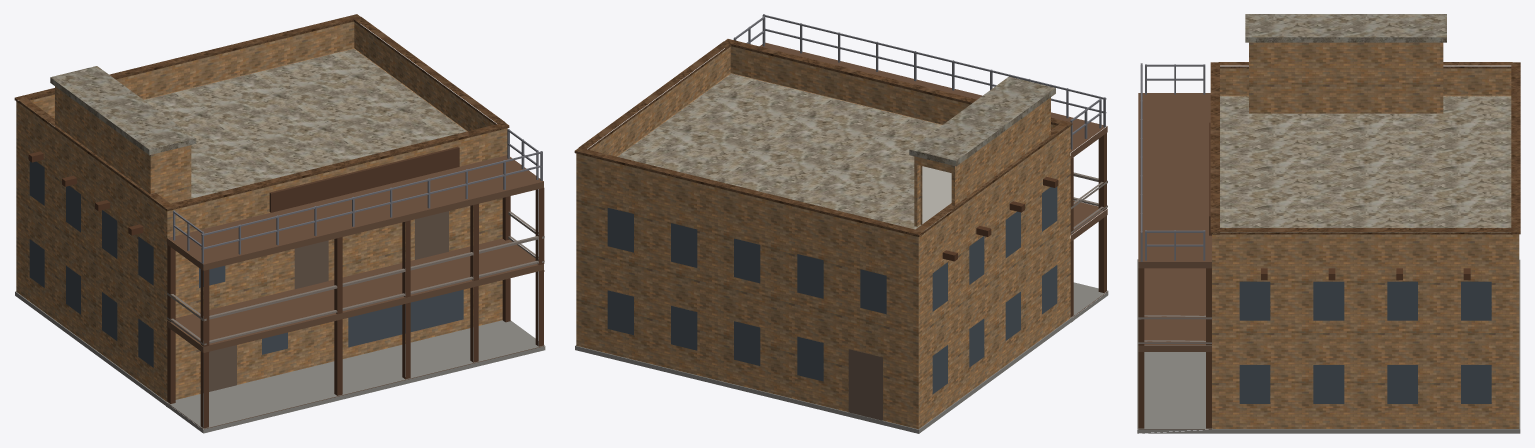
File: cr-trading-post.zfix-v22.lod1.glb
3 renders of one model, left to right at view 1: azimuth 30°, elevation 25°; view 2: azimuth 150°, elevation 25°; view 3: azimuth 270°, elevation 25°, orthographic.
Visible parts, largest first — view 1: cr-trading-post; view 2: cr-trading-post; view 3: cr-trading-post.
Part boxes in pixels (bbox=[...]): cr-trading-post: bbox=[14, 14, 545, 433]; cr-trading-post: bbox=[574, 14, 1108, 433]; cr-trading-post: bbox=[1137, 14, 1520, 433].
Size of the model in its own units: 13.9 by 8.96 by 12.47.
3 materials, 2 textured.
